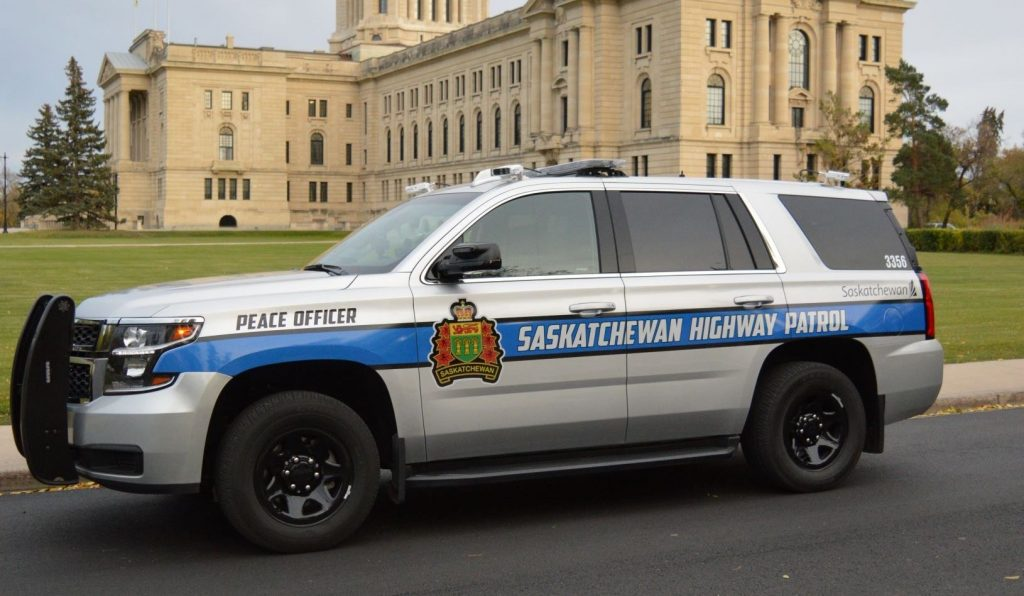special: (22, 158, 945, 549)
